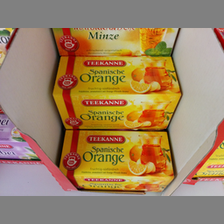tea: (50, 55, 182, 130), (56, 131, 176, 192)
